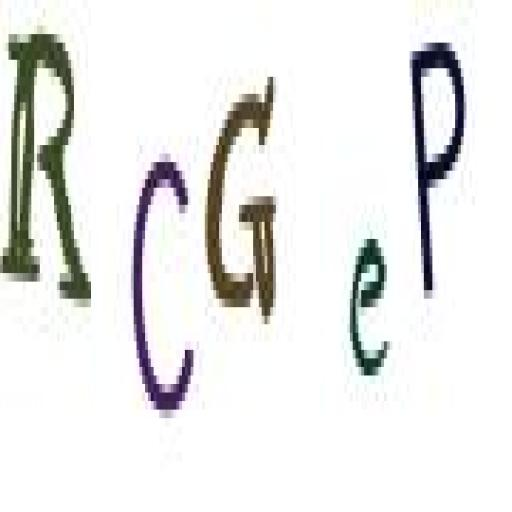C: (124, 132, 201, 435)
G: (199, 54, 280, 349)
P: (408, 23, 470, 313)
R: (1, 16, 95, 318)
e: (345, 220, 394, 394)
